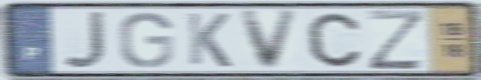C: (305, 10, 364, 69)
G: (116, 10, 176, 70)
J: (60, 10, 109, 71)
K: (185, 11, 234, 69)
V: (238, 8, 303, 72)
Z: (365, 8, 428, 72)
